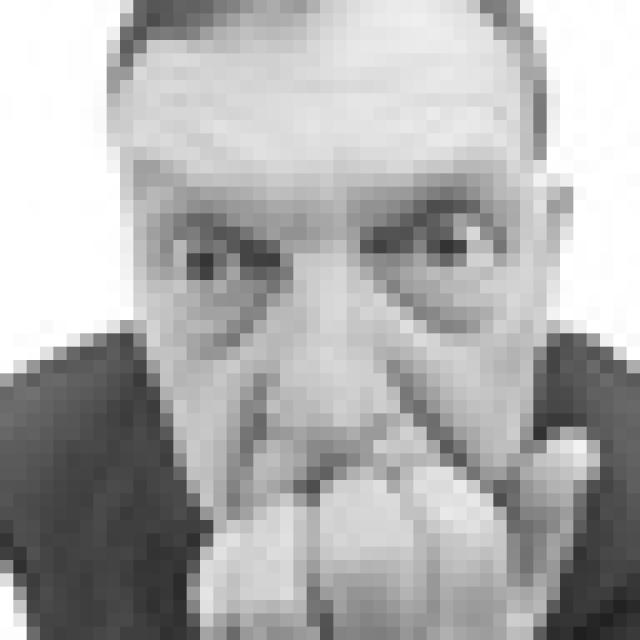fear: (158, 160, 528, 546)
